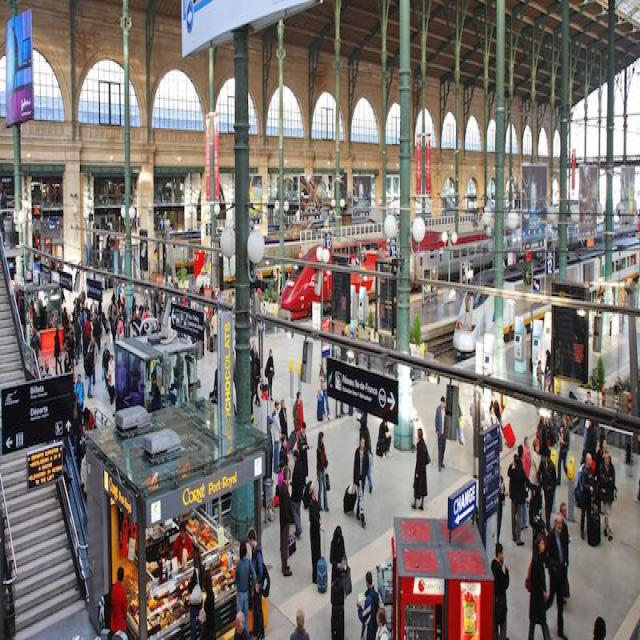body: (107, 280, 163, 346), (543, 509, 569, 640), (61, 286, 103, 365), (572, 449, 602, 548), (326, 523, 353, 627), (247, 526, 270, 640), (528, 528, 551, 640), (234, 538, 258, 636), (184, 539, 207, 640), (72, 405, 95, 504), (276, 461, 294, 579), (490, 541, 510, 640), (508, 453, 528, 547), (307, 478, 324, 586), (514, 442, 534, 532), (28, 318, 53, 389), (356, 568, 380, 640), (352, 434, 370, 530), (288, 446, 306, 540), (196, 568, 218, 640), (410, 426, 428, 512), (108, 565, 130, 635), (600, 448, 616, 542), (558, 499, 572, 606), (526, 435, 542, 528), (484, 403, 503, 480), (314, 429, 331, 515), (594, 434, 610, 516), (358, 413, 374, 494), (170, 518, 196, 564), (542, 448, 556, 533), (555, 412, 571, 486), (535, 410, 564, 450), (434, 394, 447, 475), (270, 394, 283, 475), (579, 416, 598, 466), (249, 342, 262, 413), (139, 371, 163, 408), (297, 419, 310, 485), (262, 410, 274, 480), (82, 341, 96, 400), (318, 356, 330, 422), (86, 331, 100, 387), (376, 411, 391, 461), (289, 606, 310, 640), (264, 344, 275, 403), (105, 350, 116, 408), (53, 324, 64, 378), (496, 476, 505, 542), (234, 608, 252, 640), (374, 605, 390, 640), (291, 389, 304, 432), (74, 372, 85, 422), (521, 434, 532, 478), (590, 612, 608, 638), (488, 389, 502, 422), (102, 341, 111, 392), (278, 432, 290, 470), (278, 397, 288, 440), (163, 267, 180, 290), (455, 402, 464, 444), (544, 347, 552, 394), (210, 306, 218, 352), (339, 320, 356, 341), (536, 360, 546, 394), (196, 278, 214, 296), (204, 312, 211, 354), (277, 459, 286, 491), (632, 470, 639, 509), (582, 386, 594, 406), (212, 366, 218, 405), (356, 299, 365, 323), (64, 349, 72, 374), (230, 288, 237, 310), (262, 299, 266, 315)
